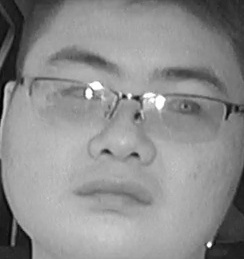eye: (166, 95, 202, 117)
glass: (32, 76, 118, 131), (141, 93, 228, 145)
mouth: (74, 175, 154, 213)
